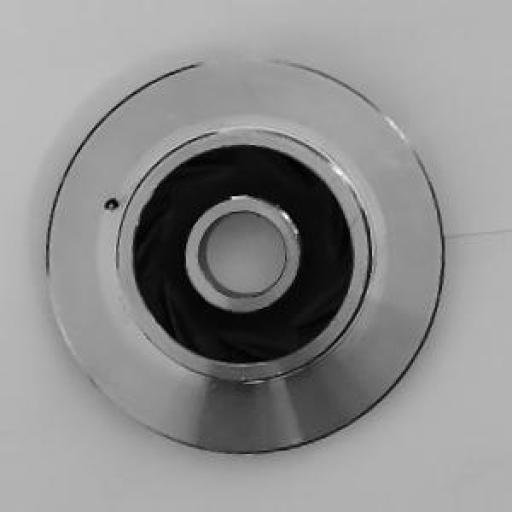defect: (87, 185, 146, 244)
